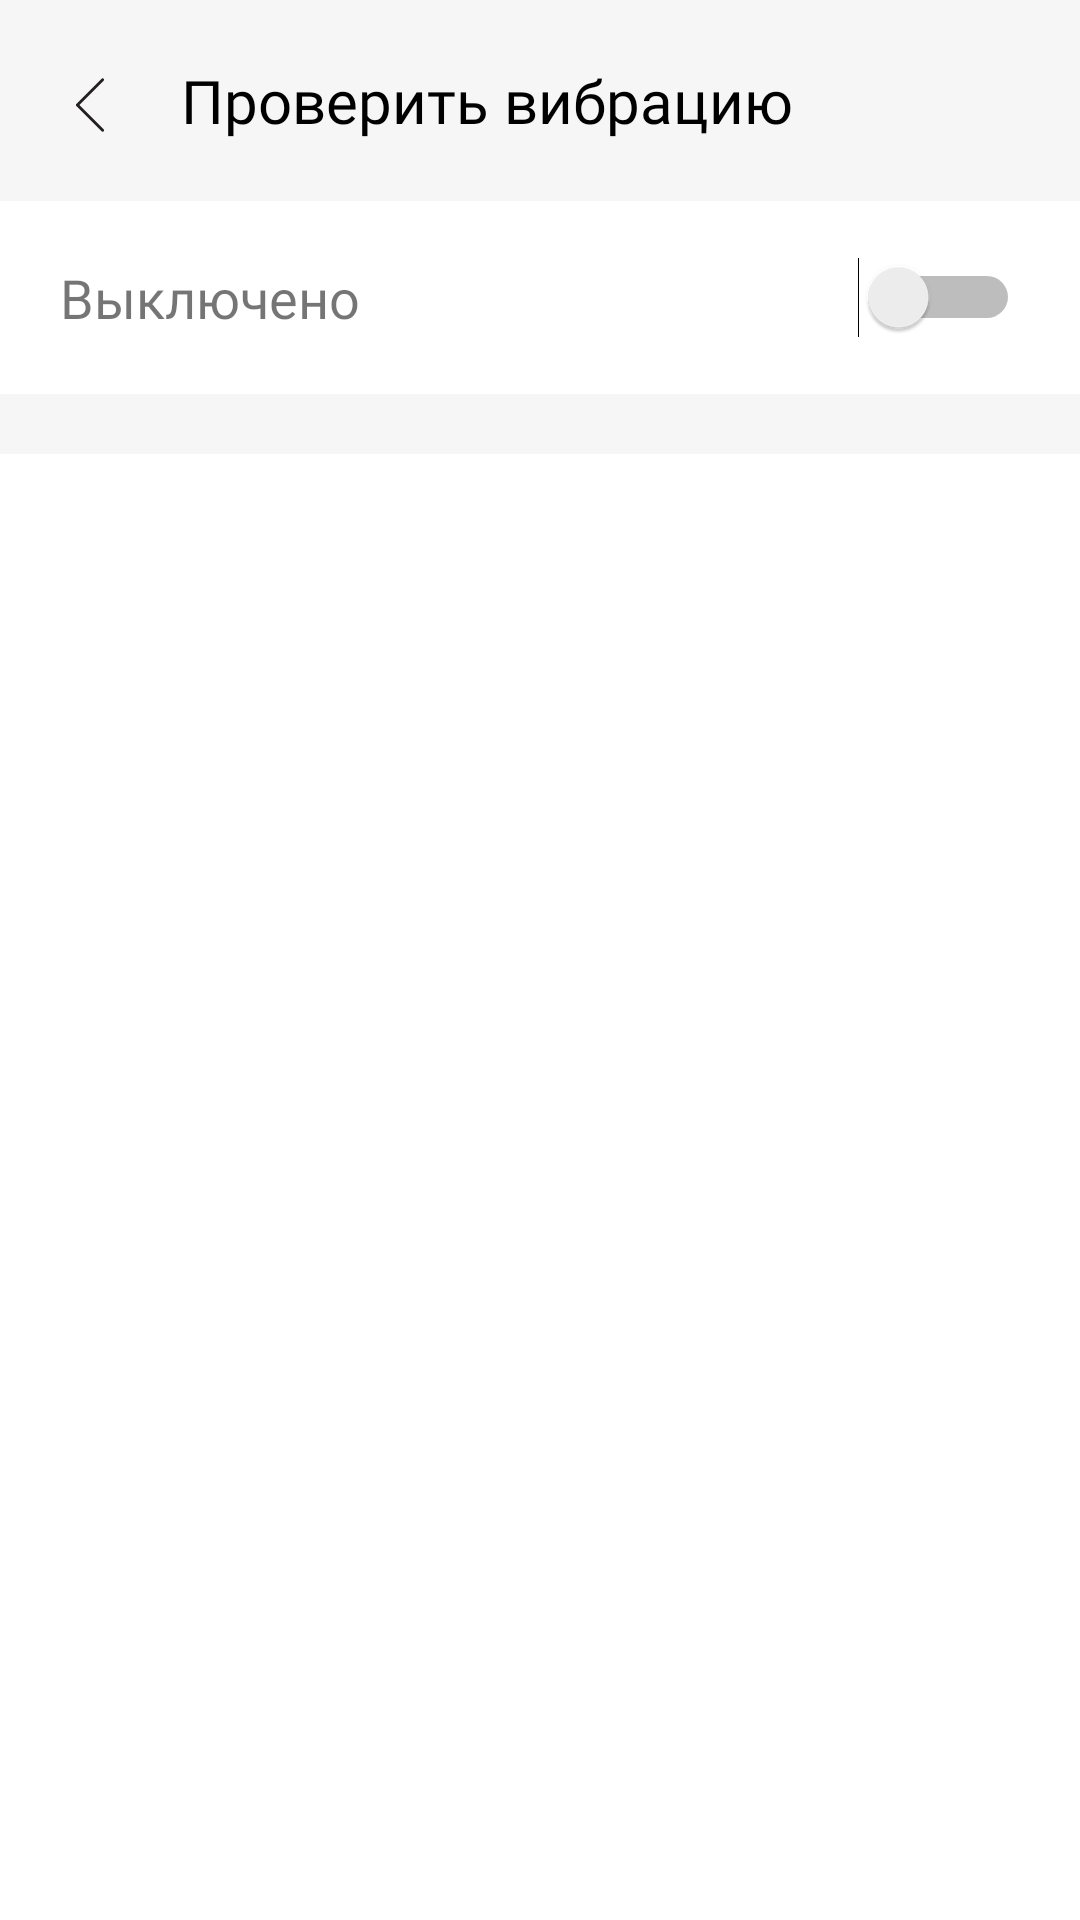

Icons on this 1080x1920 Android screen, each with the point to tap as [x,y]:
back: [90,105]
